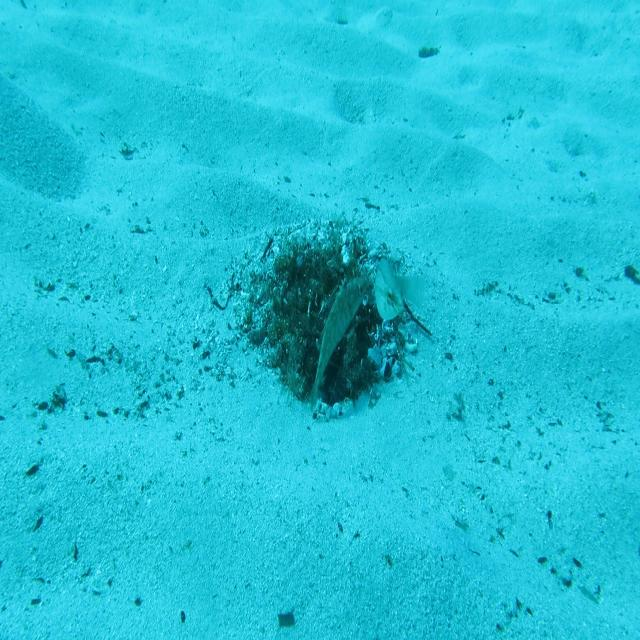FAN: (307, 274, 370, 416)
core_nest: (298, 262, 344, 296)
female: (374, 254, 426, 324)
nest: (222, 207, 420, 438)
vegetation: (417, 44, 441, 64), (278, 610, 298, 630), (624, 264, 640, 286)
